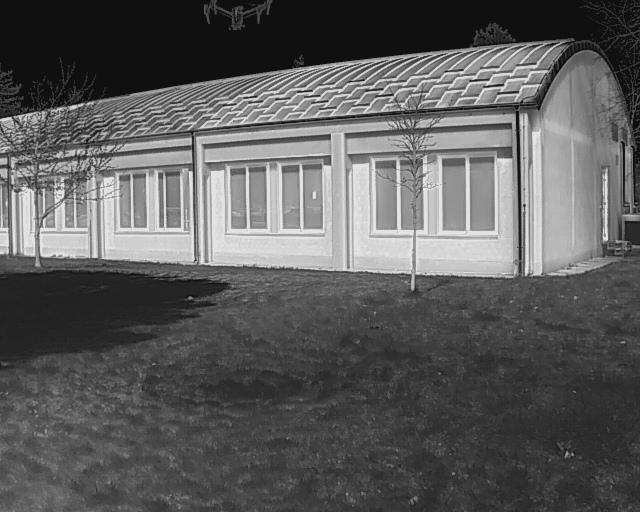drone: (196, 0, 282, 38)
